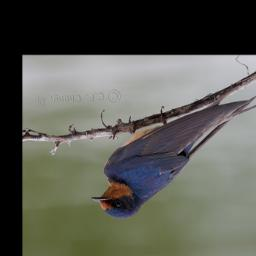Swallow: (82, 93, 256, 223)
